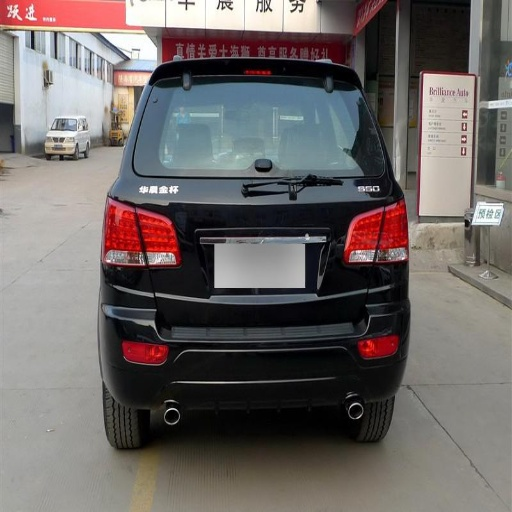back_bumper: (104, 259, 407, 412)
tailgate: (240, 218, 347, 322)
trunk: (125, 171, 383, 337)
